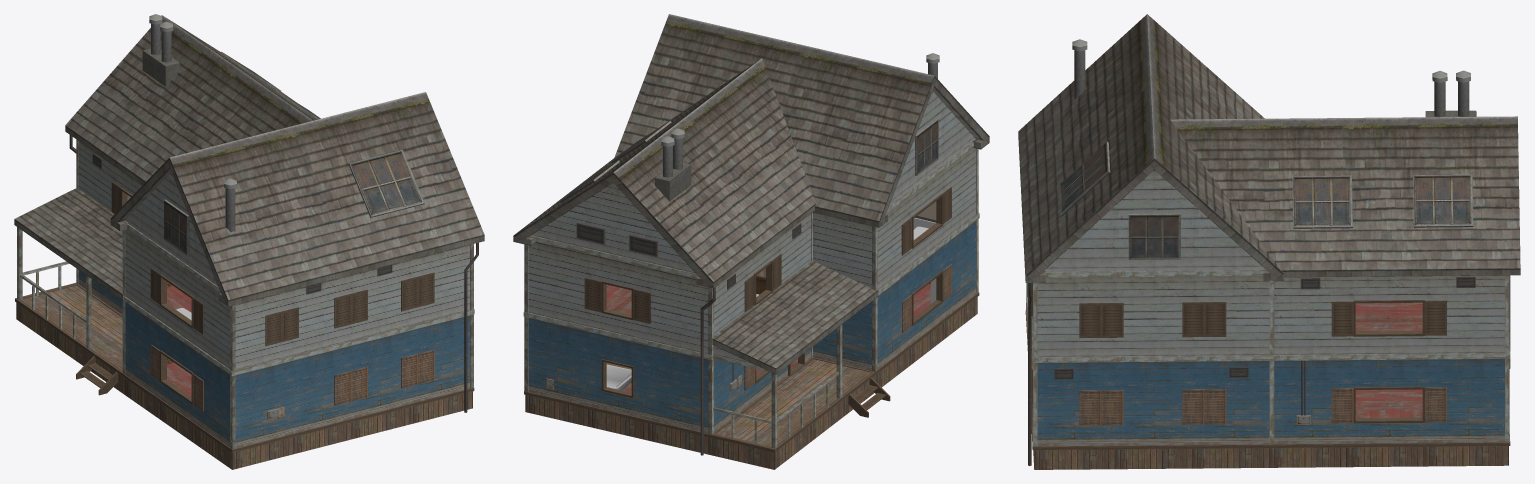
Rendered from Free Fire House By NR YT.fbx.
3 views of the same model, side by side, from view 1: azimuth 30°, elevation 25°; view 2: azimuth 150°, elevation 25°; view 3: azimuth 270°, elevation 25° (orthographic). The views are drawn at different scales.
Parts seen in each view (by area): view 1: concrete_wall_01D_D, wood_wall_01_D, wood_house_01A_D; view 2: concrete_wall_01D_D, wood_wall_01_D, wood_house_01A_D, bed items; view 3: concrete_wall_01D_D, wood_wall_01_D, wood_house_01A_D.
Part boxes in pixels (x1,y1,x2,y2): concrete_wall_01D_D: (14,14,484,419); wood_wall_01_D: (17,139,474,449); wood_house_01A_D: (15,182,474,469); concrete_wall_01D_D: (513,14,989,455); wood_wall_01_D: (523,91,979,448); wood_house_01A_D: (524,187,979,469); bed items: (606,218,936,390); concrete_wall_01D_D: (1018,14,1520,465); wood_wall_01_D: (1026,170,1510,446); wood_house_01A_D: (1025,283,1510,469).
Size of the model in its own units: 1129 by 1128 by 1564.
